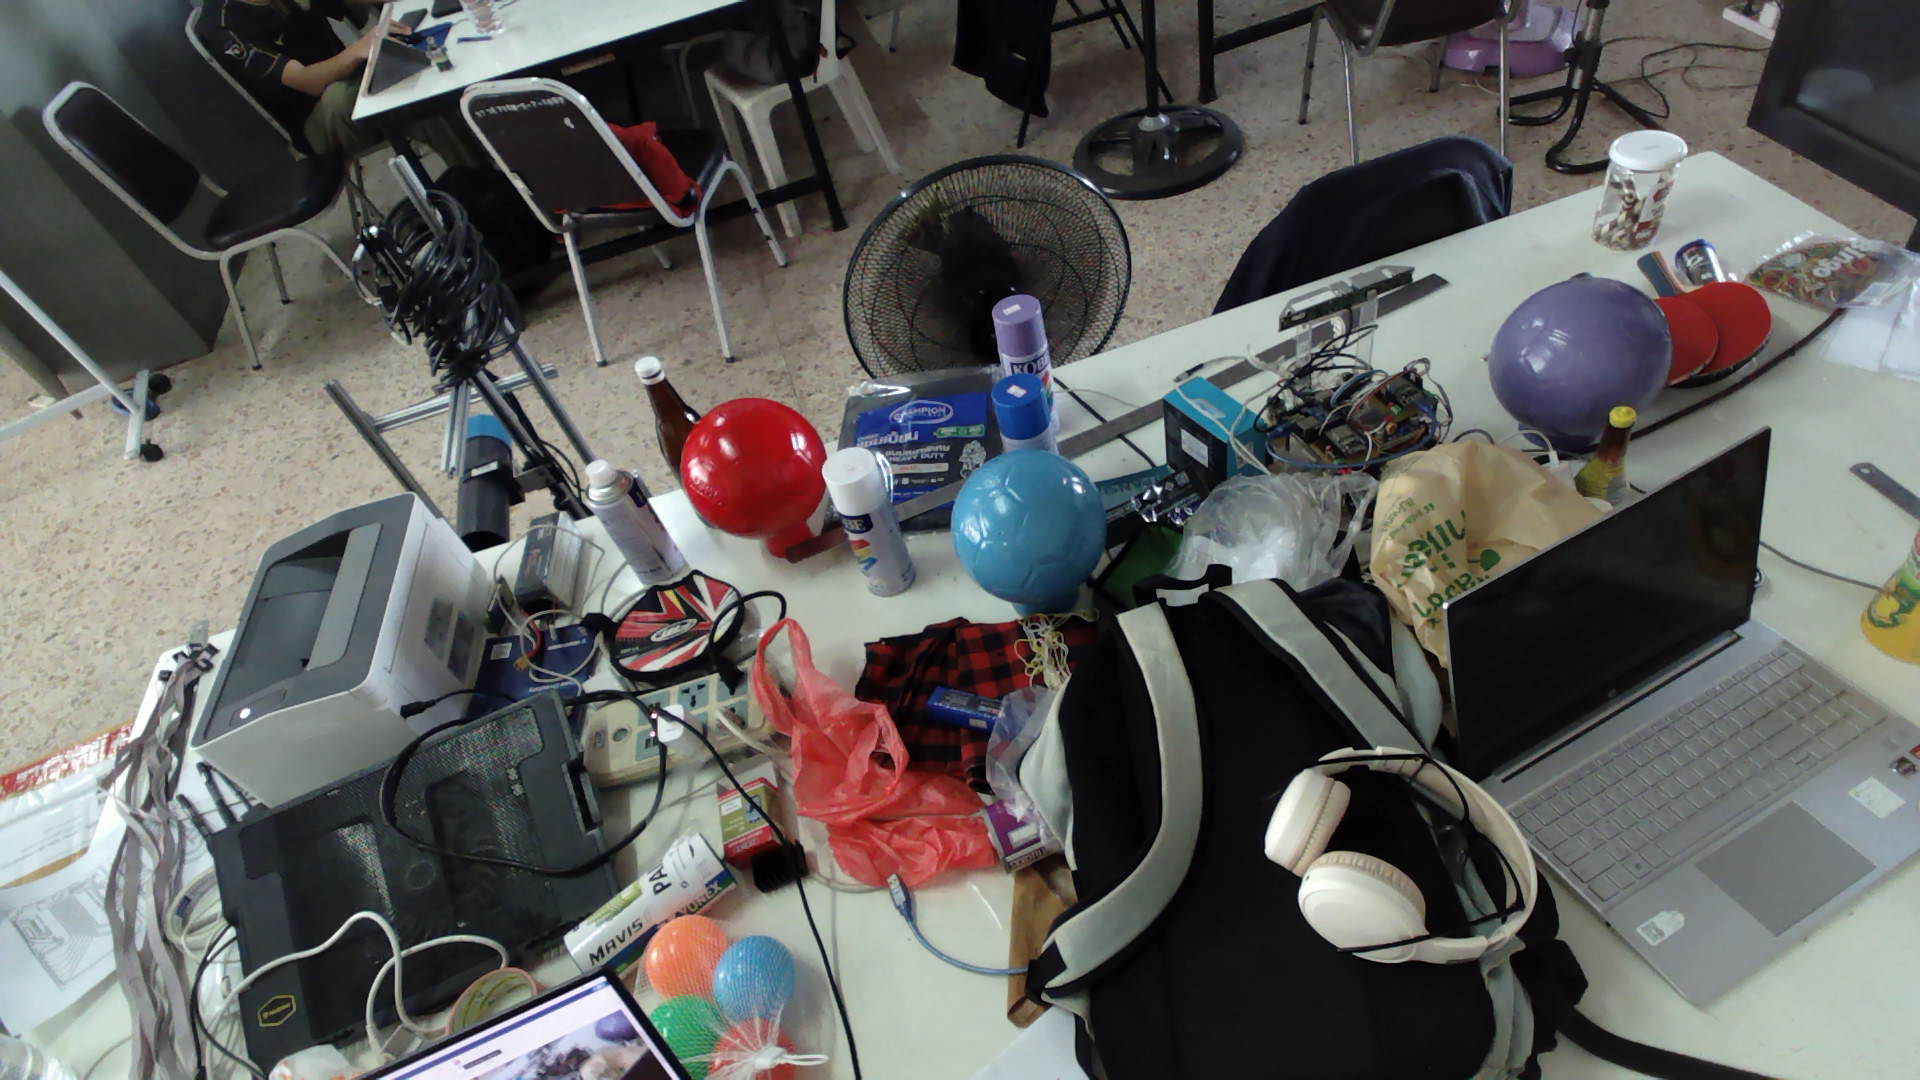Blue ball: (949, 448, 1108, 607)
Purple ball: (1487, 276, 1673, 438)
Red ball: (678, 396, 829, 541)
